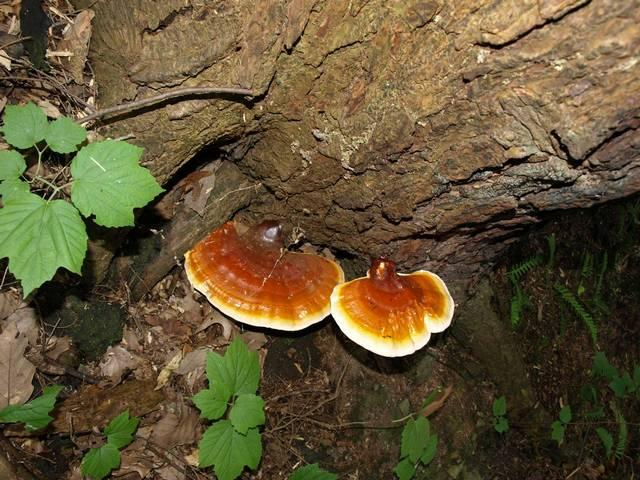Non-edible Mushroom: (182, 217, 344, 332), (329, 255, 455, 358)
